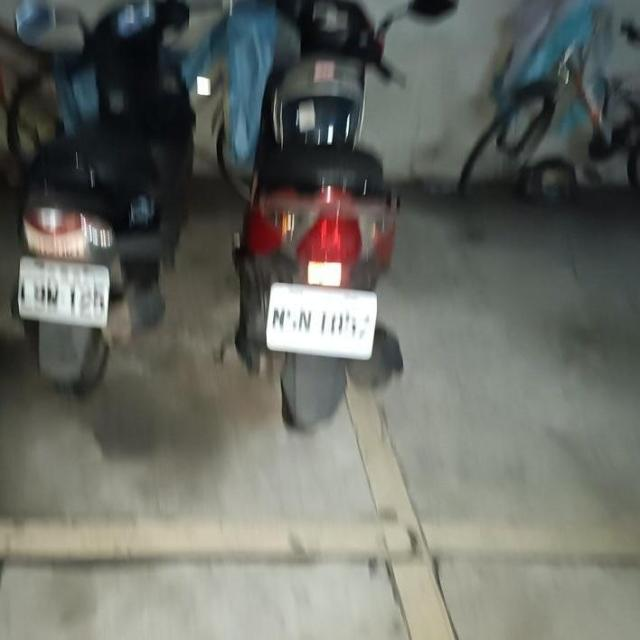W: (261, 269, 384, 366), (5, 240, 120, 341)
